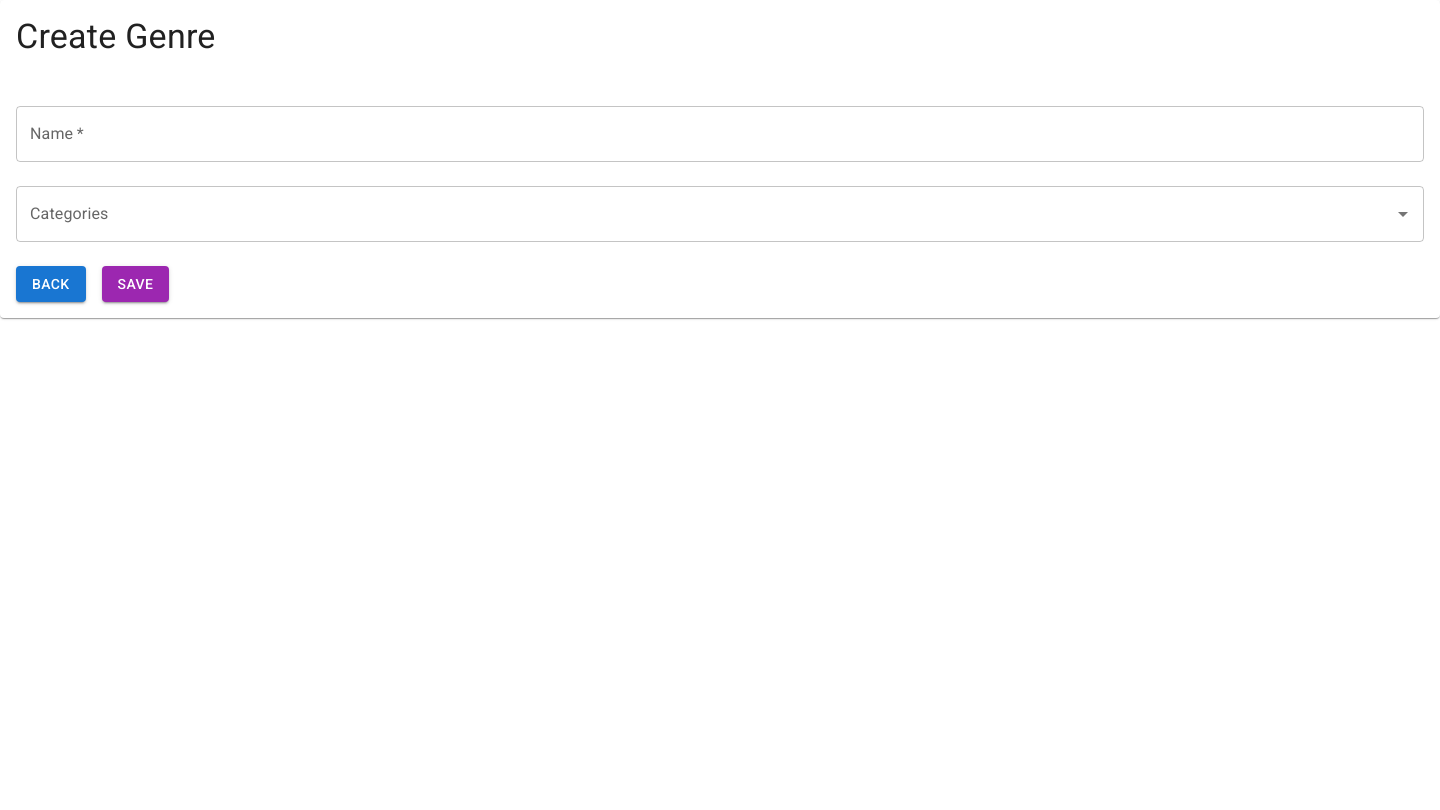
it: GenreCreate › should be click submit
Type "Test" into the field labelled "Name *" at (720, 134), box [16,106,1424,162]
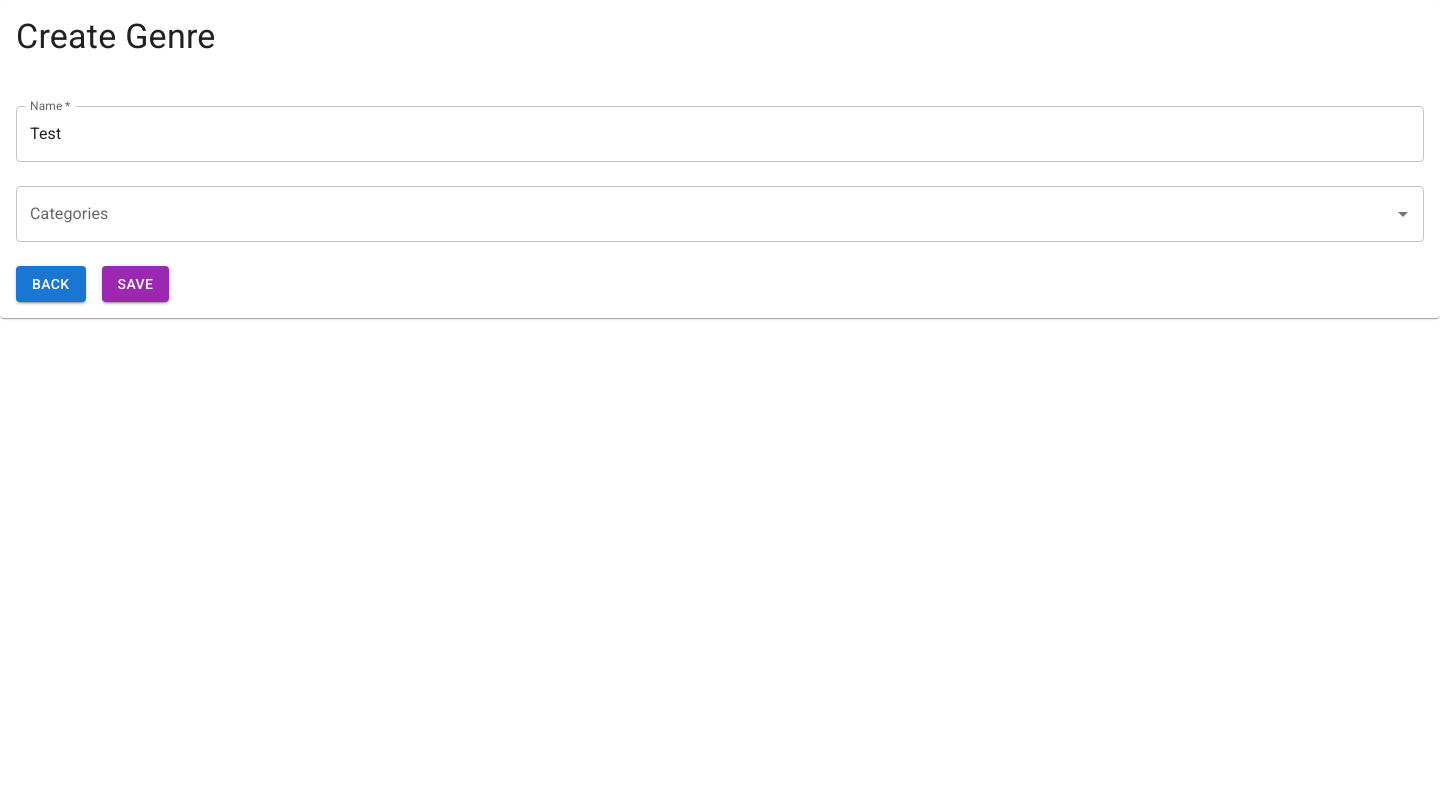
Click the button "Save" at (136, 284), box [102,266,169,302]
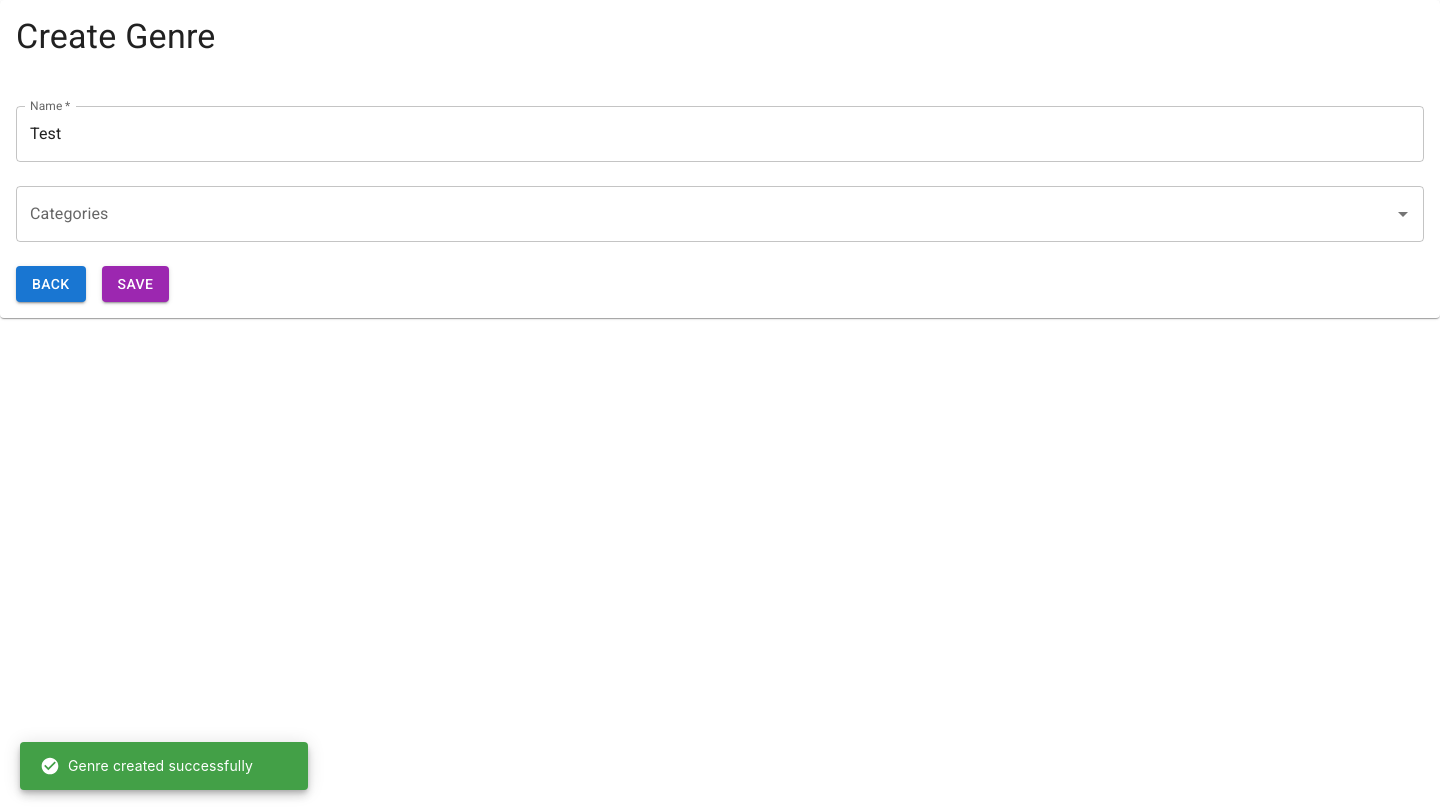
Expected: the text "Genre created successfully" is shown, [40,756,253,776]
